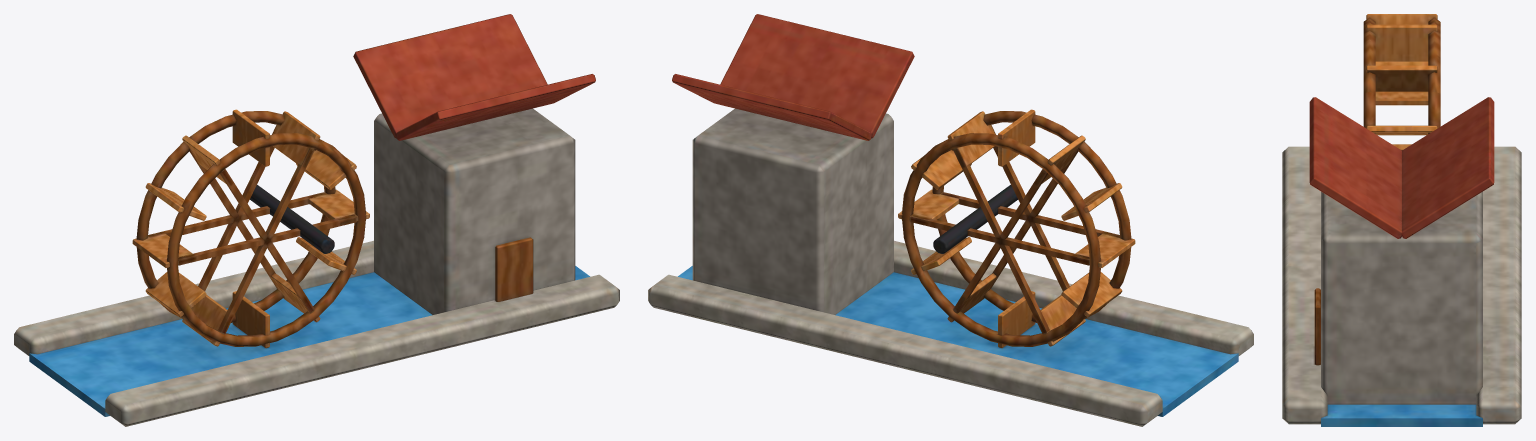
The model's file is water_wheel.glb.
The picture shows the model from 3 angles, left to right: view 1: azimuth 30°, elevation 25°; view 2: azimuth 150°, elevation 25°; view 3: azimuth 270°, elevation 25°; orthographic projection. The views are drawn at different scales.
Parts seen in each view (by area): view 1: water_wheel, spinZ_wheel; view 2: water_wheel, spinZ_wheel; view 3: water_wheel, spinZ_wheel.
Part boxes in pixels (x1,y1,x2,y2): water_wheel: (14,14,619,426); spinZ_wheel: (132,109,369,348); water_wheel: (648,14,1253,426); spinZ_wheel: (898,109,1135,348); water_wheel: (1282,97,1521,426); spinZ_wheel: (1363,14,1440,150).
Bounding box in the file's own units: 1.9 × 0.825 × 0.74.
1 material, 1 textured.
